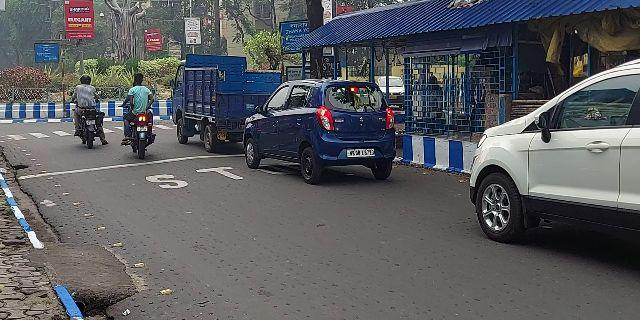Car: (466, 59, 640, 238), (244, 75, 408, 181)
Minitruck: (172, 50, 283, 153)
Motorbike: (122, 65, 160, 160), (75, 71, 108, 151)
